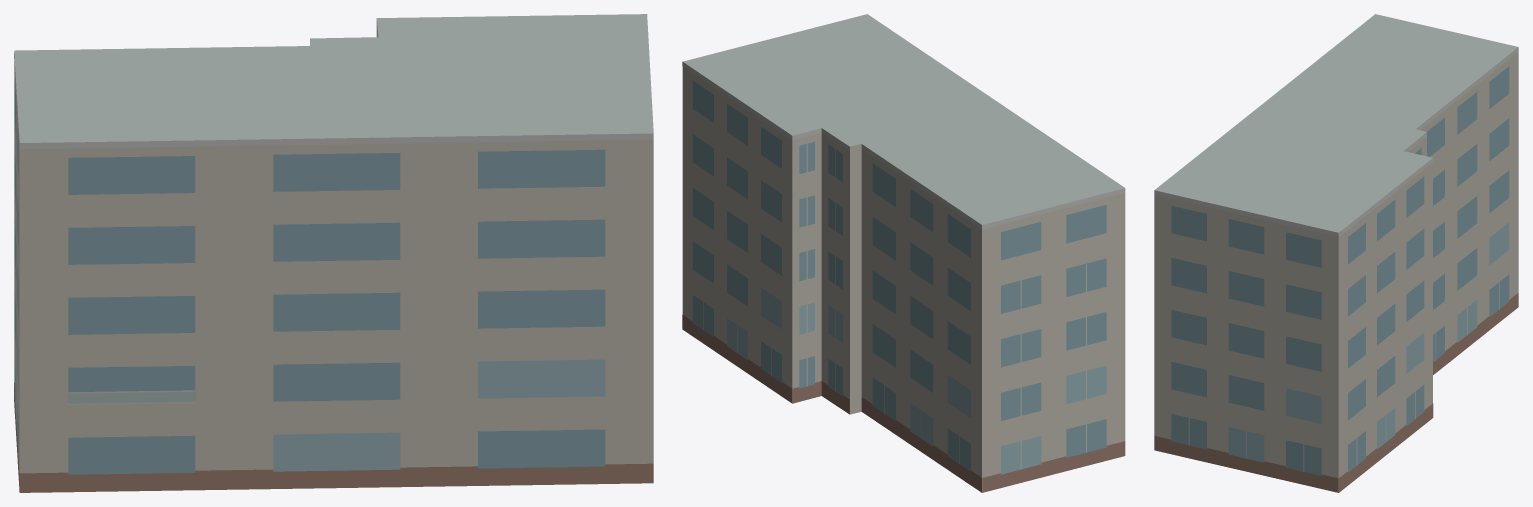
Rendered from survey-upis-32923628.glb.
3 views of the same model, side by side, from view 1: azimuth 30°, elevation 25°; view 2: azimuth 150°, elevation 25°; view 3: azimuth 270°, elevation 25° (orthographic). The views are drawn at different scales.
Parts seen in each view (by area): view 1: survey-upis-32923628.tmp; view 2: survey-upis-32923628.tmp; view 3: survey-upis-32923628.tmp.
Boxes of the visible parts, x1,y1,x2,y2 form: survey-upis-32923628.tmp: (14,14,653,492); survey-upis-32923628.tmp: (682,14,1125,492); survey-upis-32923628.tmp: (1154,14,1518,492).
Size of the model in its own units: 25.26 by 14 by 17.78.
